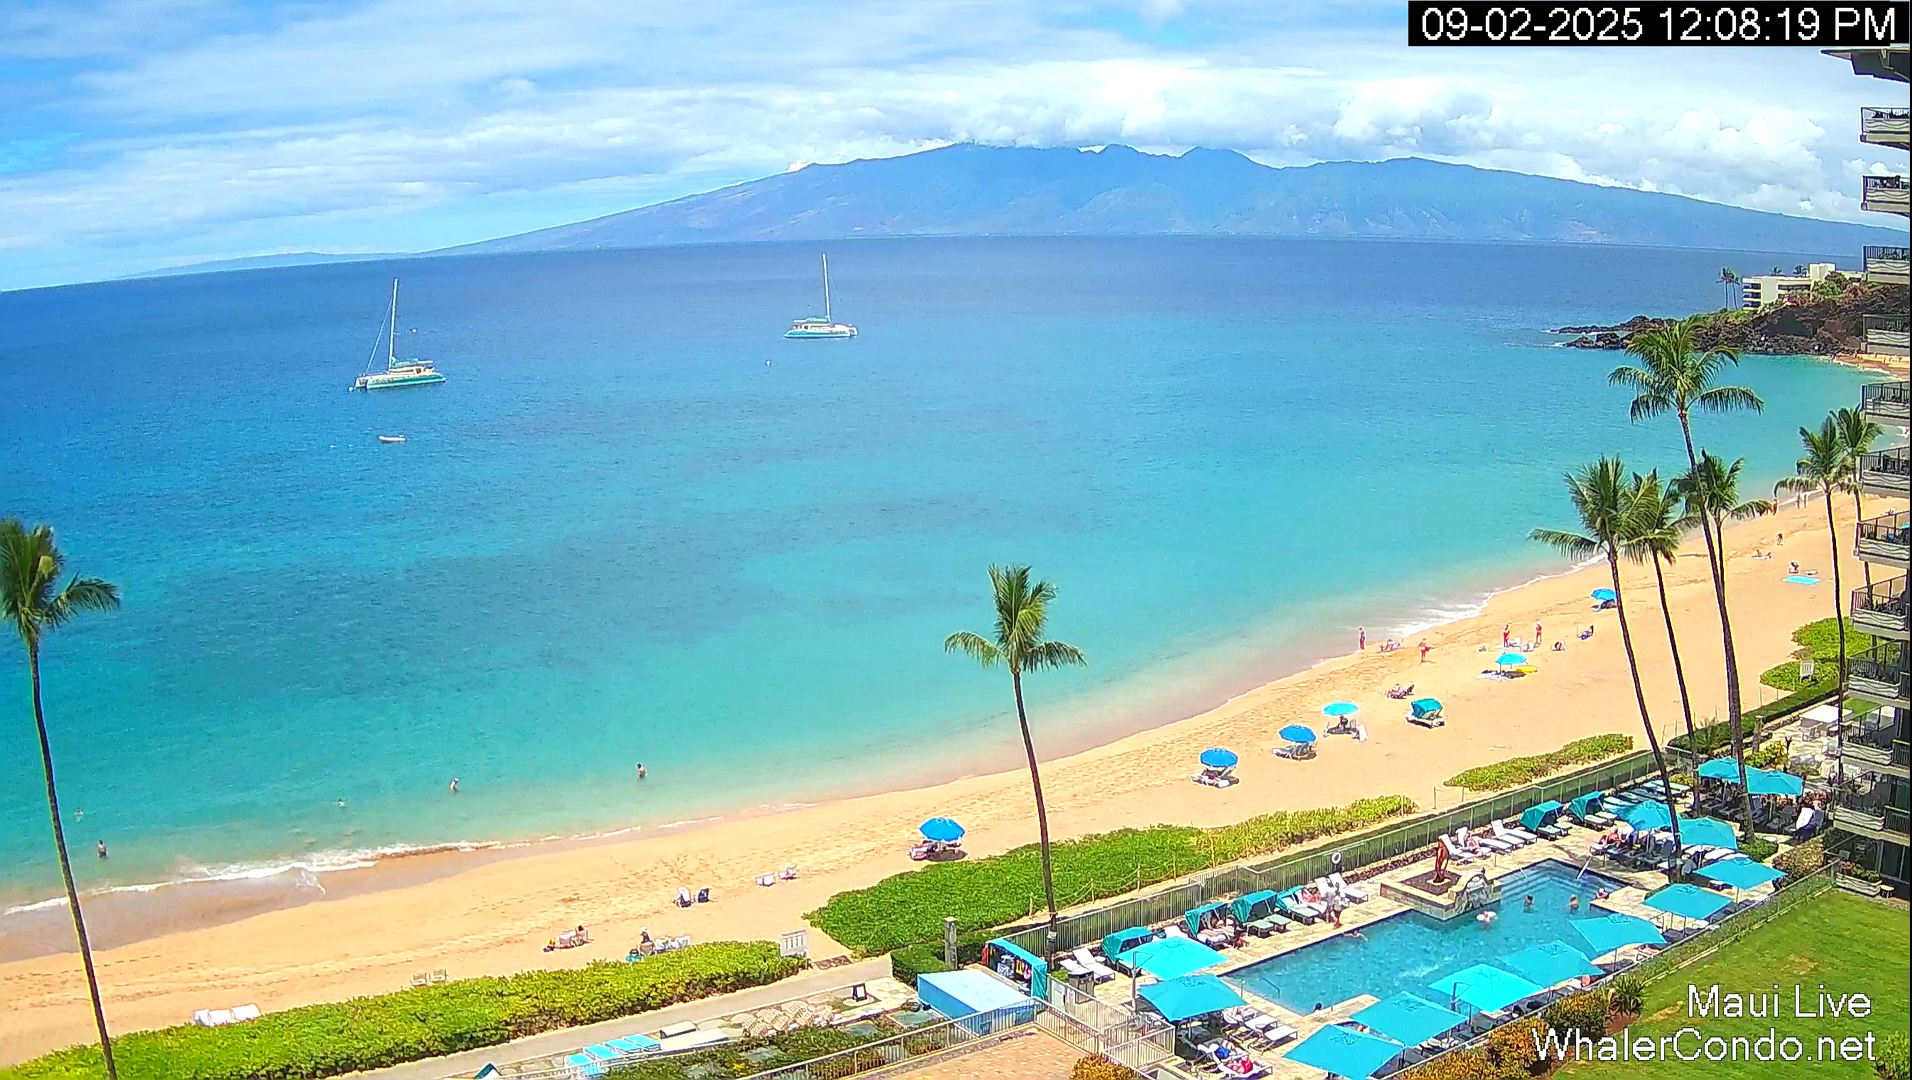boat: (352, 277, 447, 391), (783, 253, 859, 339), (378, 435, 407, 443)
person: (1417, 637, 1433, 663), (1577, 625, 1594, 640), (576, 924, 589, 943), (97, 840, 108, 861), (636, 763, 647, 782), (1502, 625, 1511, 648), (1569, 894, 1579, 913), (1534, 619, 1543, 640), (1358, 628, 1366, 650), (1788, 560, 1800, 574), (449, 778, 459, 793), (1357, 627, 1366, 640)
surfboard: (1782, 575, 1821, 585)
